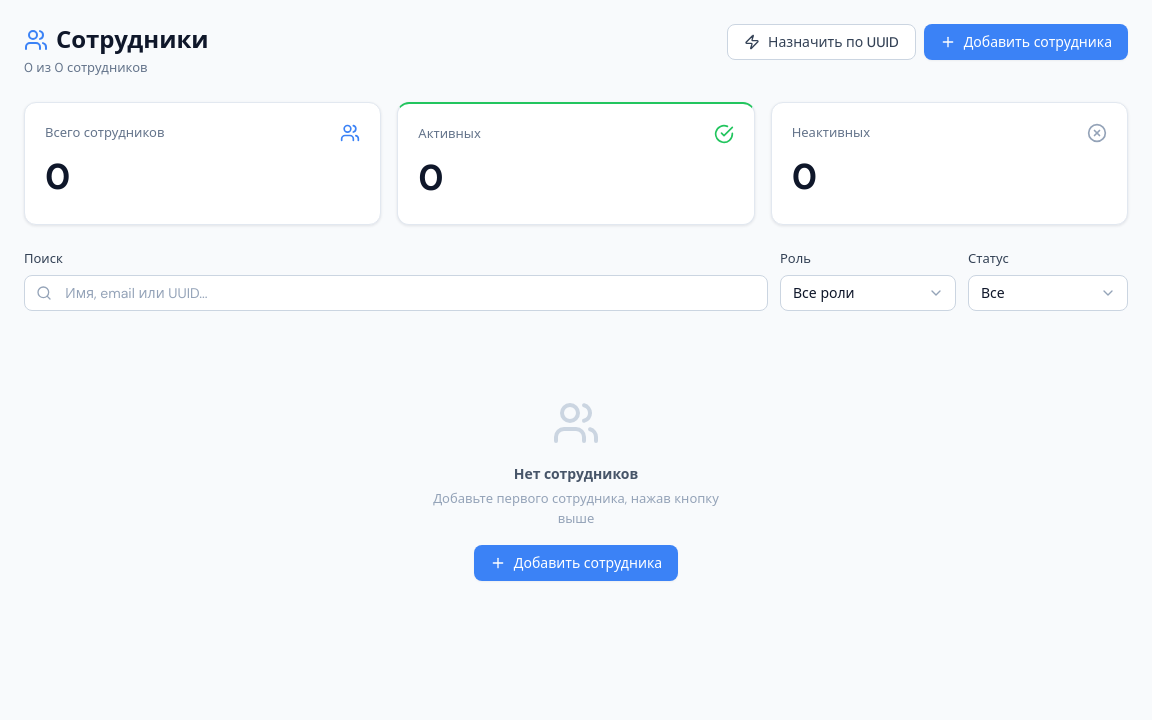
Scenario: EmployeesPage › opens add employee modal when button clicked
Click the button "Добавить сотрудника" in the row of "Сотрудники". click: (1026, 42)
box: [924,24,1128,60]
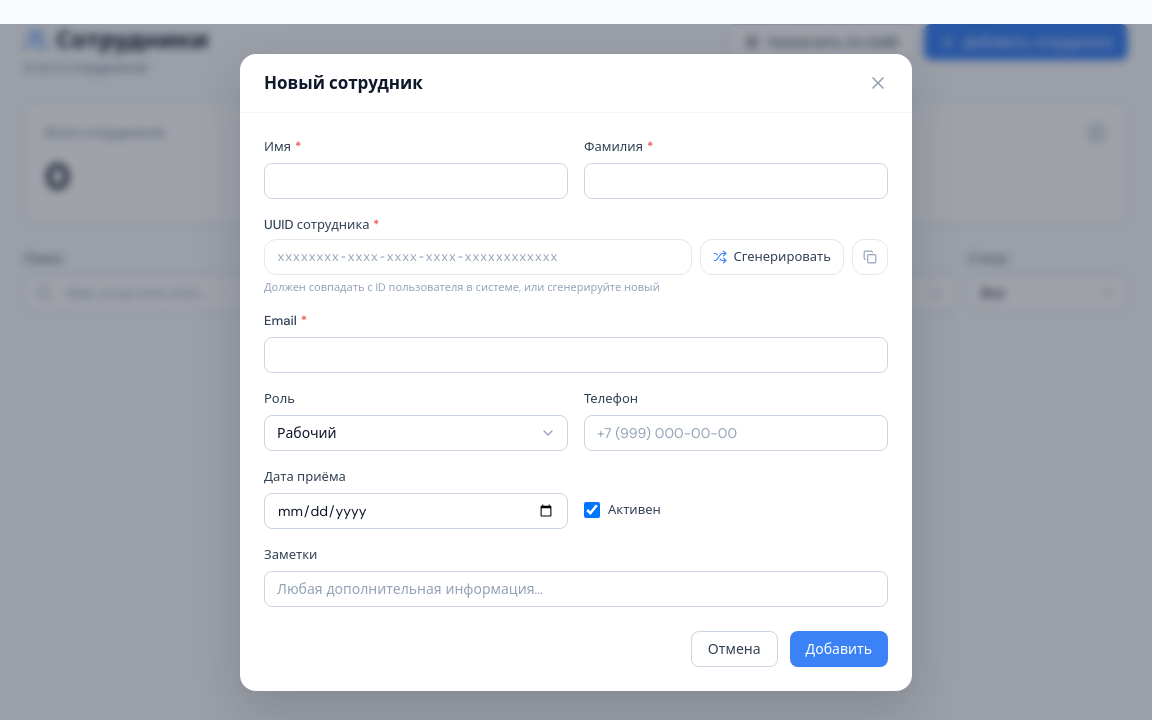
Now the heading "Новый сотрудник" is shown, box [264,70,423,96]
